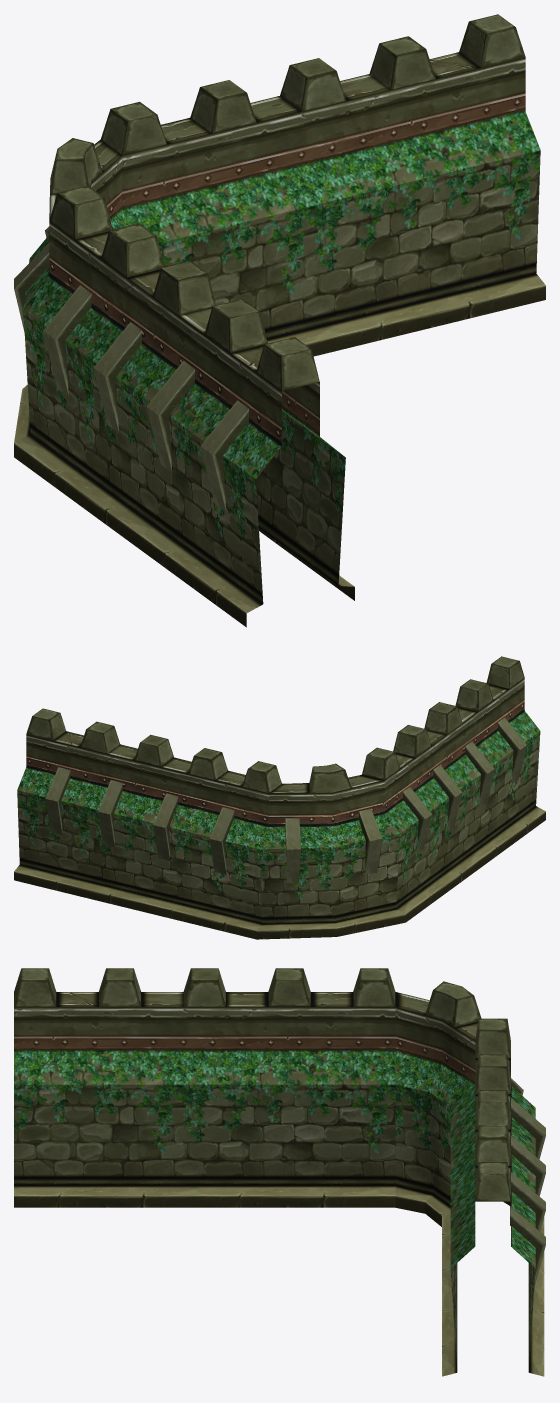
The model's file is wall_c.obj.
3 views of the same model, one above another, from view 1: azimuth 30°, elevation 25°; view 2: azimuth 150°, elevation 25°; view 3: azimuth 270°, elevation 25° (orthographic). The views are drawn at different scales.
Size of the model in its own units: 21.98 by 9.65 by 21.99.
Materials: 1 (1 with a texture image).
